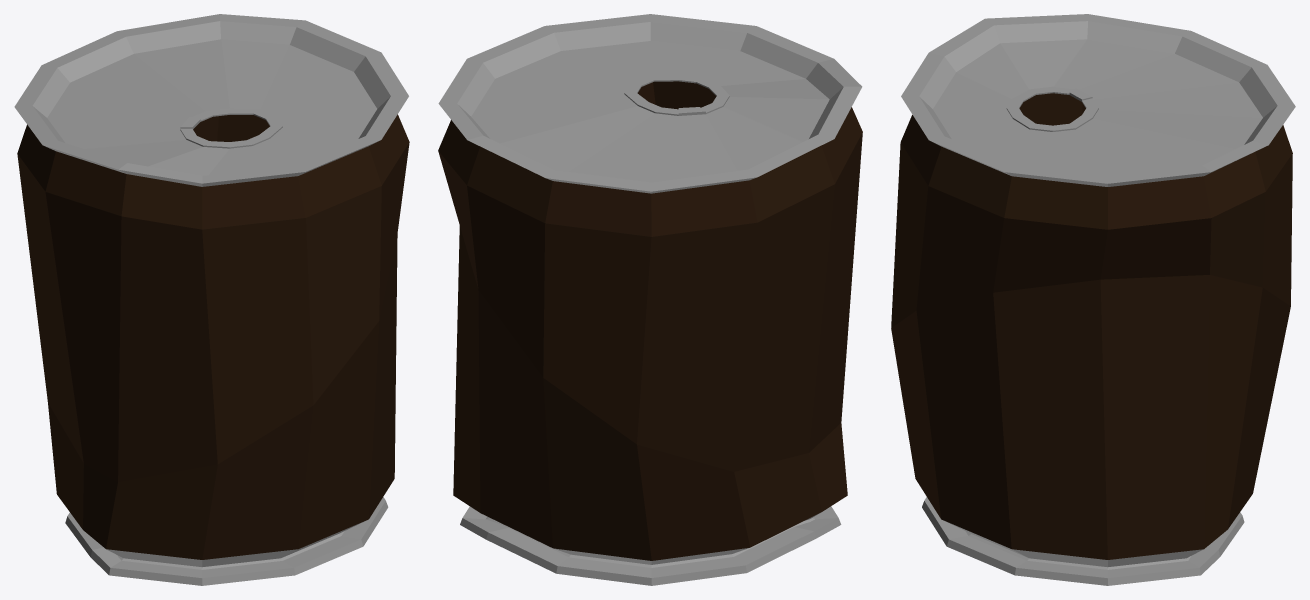
Rendered from lata1.fbx.
3 views of the same model, side by side, from view 1: azimuth 30°, elevation 25°; view 2: azimuth 150°, elevation 25°; view 3: azimuth 270°, elevation 25° (orthographic). The views are drawn at different scales.
Parts seen in each view (by area): view 1: Cylinder.004; view 2: Cylinder.004; view 3: Cylinder.004.
Boxes of the visible parts, box(x1,y1,x2,y2) form: Cylinder.004: box(14, 14, 409, 585); Cylinder.004: box(438, 14, 862, 585); Cylinder.004: box(891, 14, 1295, 585).
Size of the model in its own units: 108 by 126 by 109.
